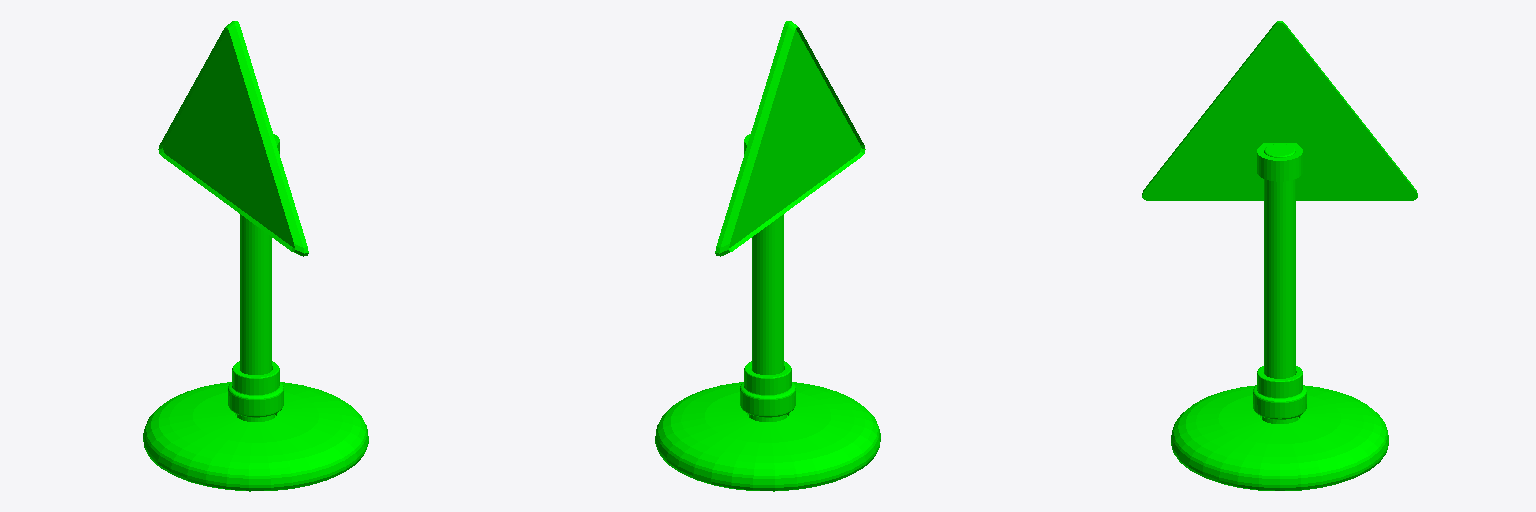
robot.urdf — sign:
<?xml version="1.0"?>
<robot name="sign">
  <link name="base">
   <contact>
      <lateral_friction value="1.0"/>
      <rolling_friction value="0.0"/>
      <contact_cfm value="0.0"/>
      <contact_erp value="1.0"/>
    </contact>
    <inertial>
      <origin rpy="0 0 0" xyz="0 0 0"/>
       <mass value="0.1"/>
       <inertia ixx="1" ixy="0" ixz="0" iyy="1" iyz="0" izz="1"/>
    </inertial>
    <visual>
      <geometry>
        <mesh filename="OBJ/sign.obj" scale="1 1 1"/>
      </geometry>
      <origin rpy="0 0 0" xyz="0 0 0" />
      <material name="green"/>
    </visual>
    <collision>
      <origin rpy="0 0 0" xyz="0 0 0"/>
      <geometry>
         <mesh filename="OBJ/sign.obj" scale="1 1 1"/>
      </geometry>
    </collision>
  </link>

<material name="red"><color rgba="0.99 0 0 1"/></material>
<material name="orange"><color rgba="1 0.5 0 1"/></material>
<material name="yellow"><color rgba="0.95 0.95 0 1"/></material>
<material name="green"><color rgba="0 0.99 0 1"/></material>
<material name="skyblue"><color rgba="0.53 0.81 0.92 1"/></material>
<material name="blue"><color rgba="0 0 0.99 1"/></material>
<material name="purple"><color rgba="0.95 0 0.95 1"/></material>



</robot>

--- Facts derived from the render (not from the file) ---
Views: 3 orthographic renders of the robot side by side, from view 1: azimuth 30°, elevation 25°; view 2: azimuth 150°, elevation 25°; view 3: azimuth 270°, elevation 25°.
Robot: sign — 1 links, 0 joints (none); root link base; default pose: all joints at 0.
Links seen in each view (by area): view 1: base; view 2: base; view 3: base.
Link boxes in pixels (x1=…): base: x1=143, y1=21, x2=368, y2=491; base: x1=655, y1=21, x2=880, y2=491; base: x1=1142, y1=21, x2=1417, y2=490.
Size in the robot's own frame: 0.0801 by 0.1011 by 0.1679 metres.
Meshes: 1 distinct files referenced, 1 mesh visuals loaded (1 OBJ).